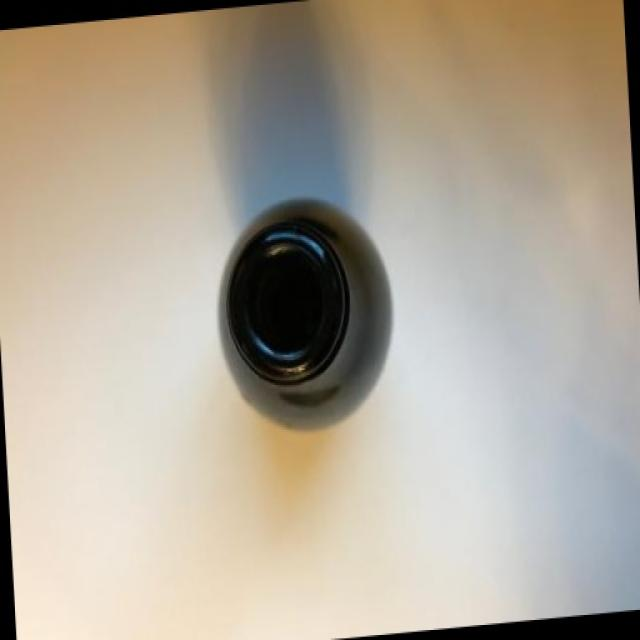vidrio: (167, 146, 414, 520)
